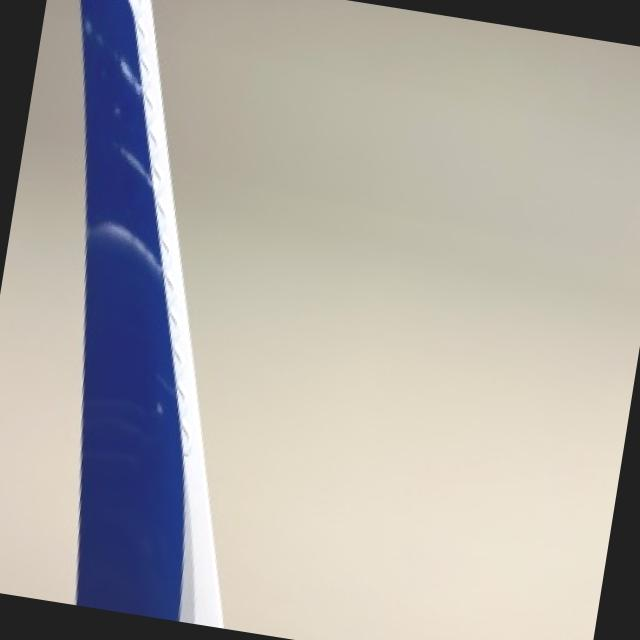healthy: (74, 0, 220, 626)
